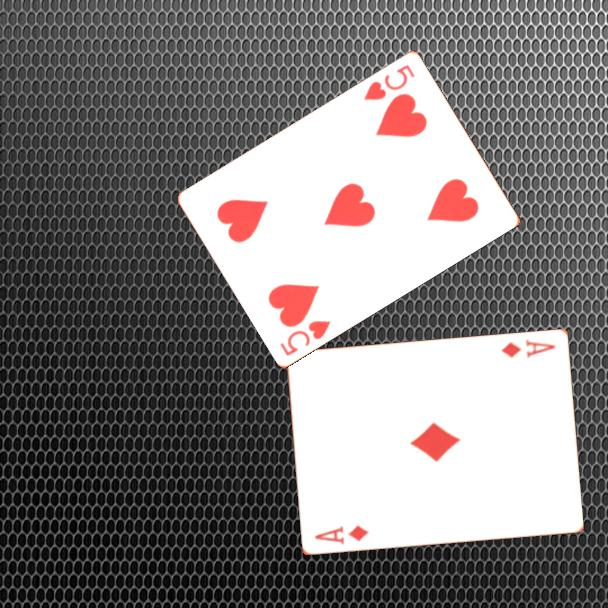d01: (497, 336, 558, 361), (311, 522, 371, 547)
h05: (360, 60, 418, 103), (277, 316, 334, 359)
